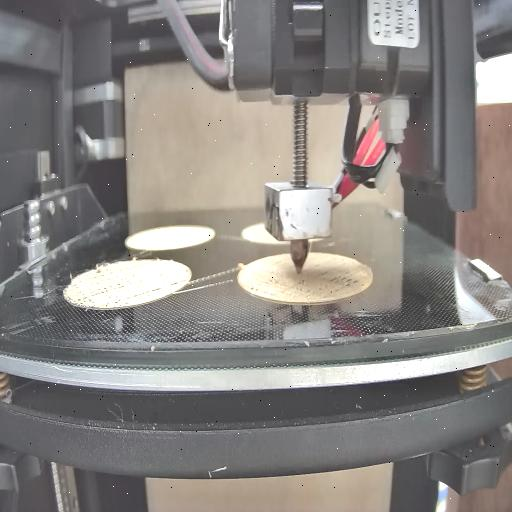under_extrusion: (69, 271, 162, 309), (248, 273, 366, 297), (167, 276, 187, 292)
